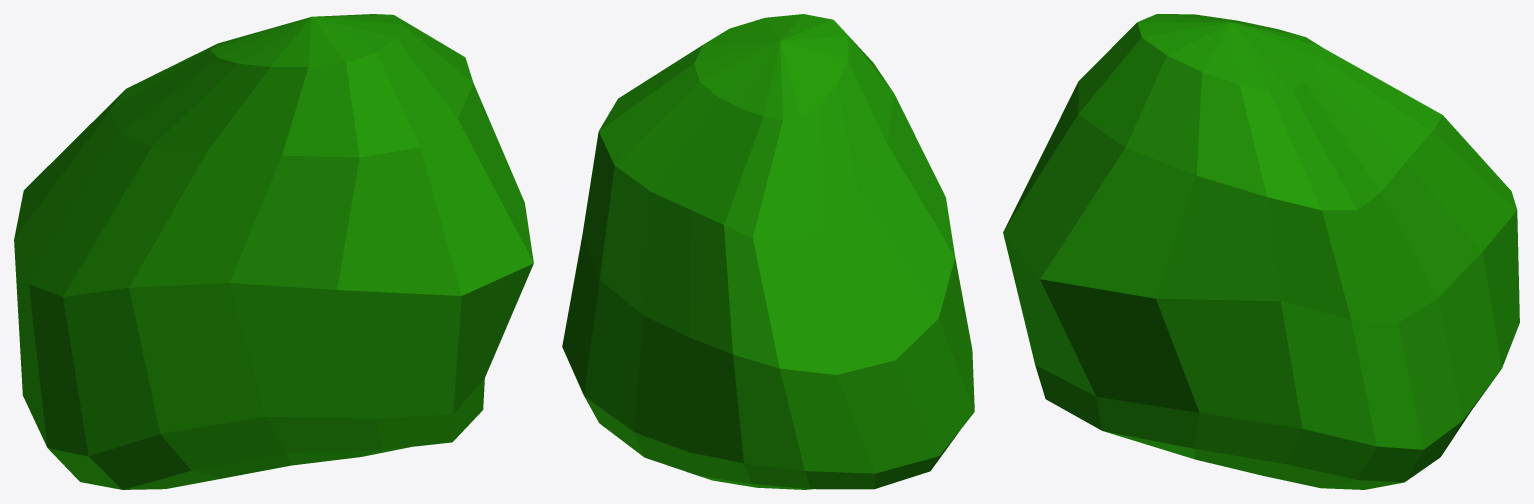
The model's file is bush2_001.FBX.
3 renders of one model, left to right at view 1: azimuth 30°, elevation 25°; view 2: azimuth 150°, elevation 25°; view 3: azimuth 270°, elevation 25°, orthographic. The views are drawn at different scales.
Visible parts, largest first — view 1: bush2_001; view 2: bush2_001; view 3: bush2_001.
Part boxes in pixels (bbox=[...]): bush2_001: bbox=[14, 14, 533, 489]; bush2_001: bbox=[562, 14, 974, 489]; bush2_001: bbox=[1003, 14, 1519, 489].
Size of the model in its own units: 78.77 by 81.62 by 87.91.
